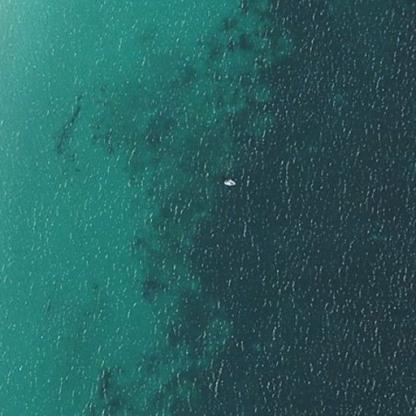ship: (218, 173, 239, 190)
